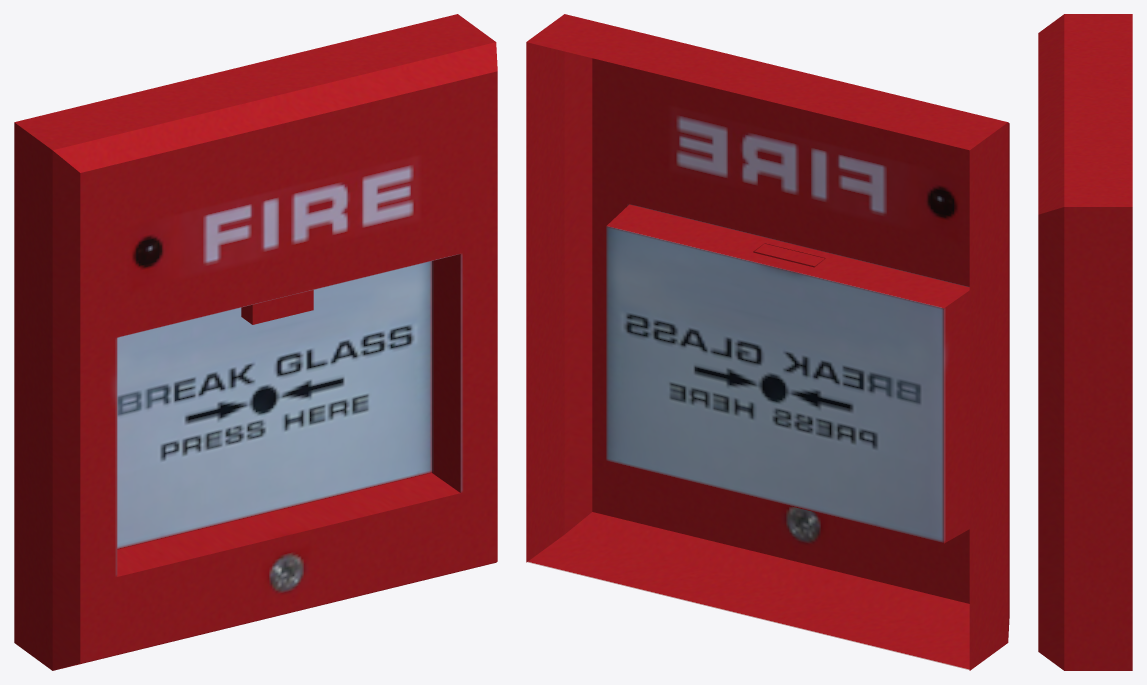
File: FireSwitch.FBX
3 renders of one model, left to right at view 1: azimuth 30°, elevation 25°; view 2: azimuth 150°, elevation 25°; view 3: azimuth 270°, elevation 25°, orthographic. The views are drawn at different scales.
Parts seen in each view (by area): view 1: FireSwitch; view 2: FireSwitch; view 3: FireSwitch.
Boxes of the visible parts, x1,y1,x2,y2 form: FireSwitch: [14, 14, 497, 670]; FireSwitch: [526, 14, 1009, 670]; FireSwitch: [1038, 14, 1132, 670].
Bounding box in the file's own units: 18.35 × 20.58 × 3.8.
Materials: 1 (1 with a texture image).
